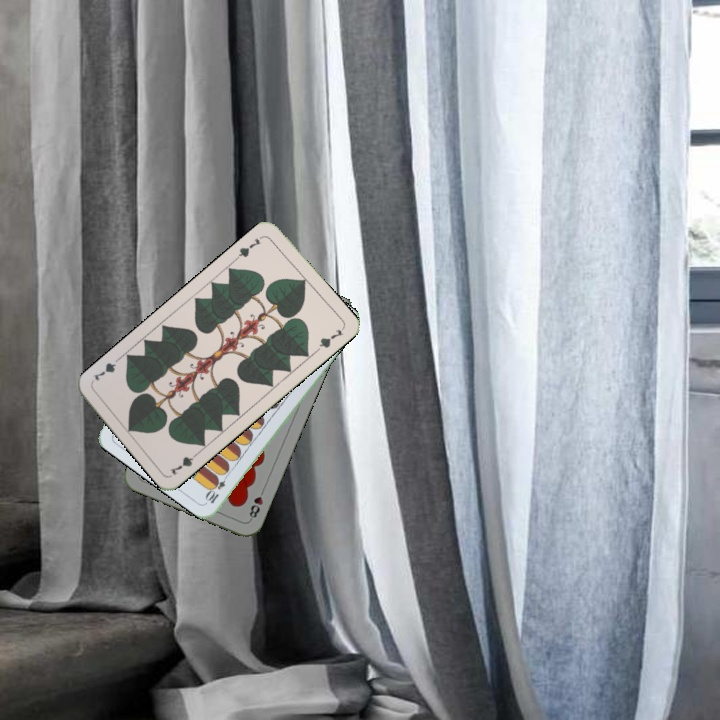E10: (202, 469, 232, 506)
G7: (166, 447, 202, 478), (232, 232, 266, 262)
H8: (245, 484, 267, 523)
